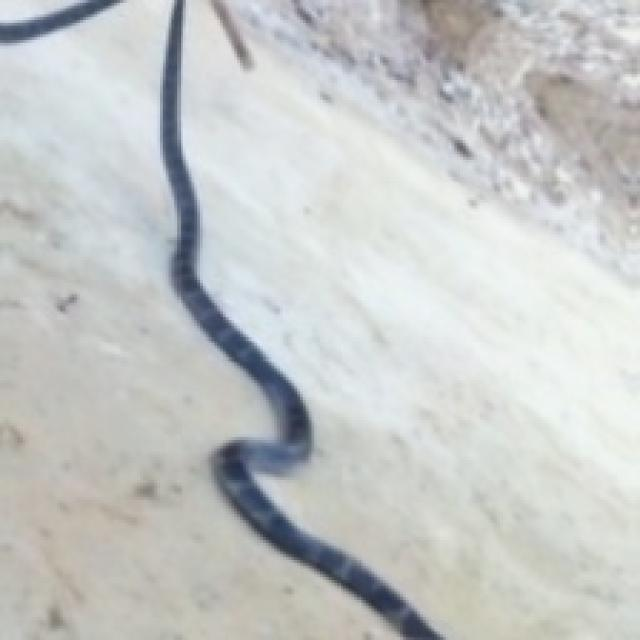king cobra: (0, 11, 371, 637), (160, 0, 443, 637)
